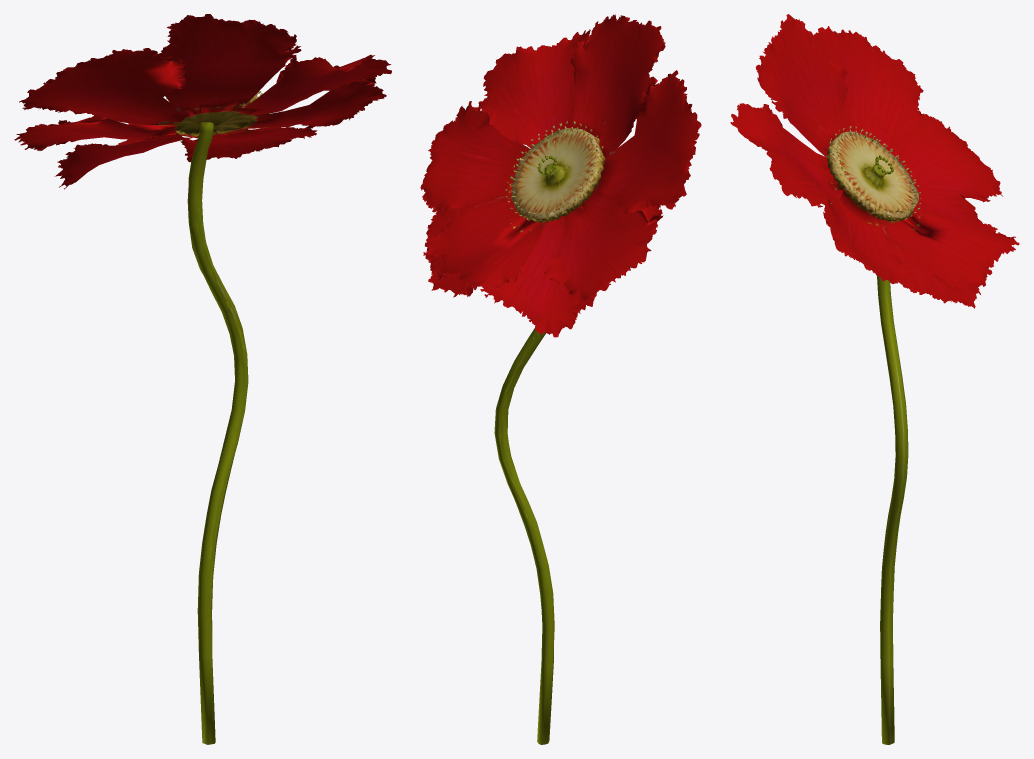
Rendered from flower-04.glb.
3 renders of one model, left to right at view 1: azimuth 30°, elevation 25°; view 2: azimuth 150°, elevation 25°; view 3: azimuth 270°, elevation 25°, orthographic. The views are drawn at different scales.
Parts seen in each view (by area): view 1: tripo_node_bb6579e9-df92-4ad9-afc2-ddf11594592f; view 2: tripo_node_bb6579e9-df92-4ad9-afc2-ddf11594592f; view 3: tripo_node_bb6579e9-df92-4ad9-afc2-ddf11594592f.
Part boxes in pixels (x1,y1,x2,y2): tripo_node_bb6579e9-df92-4ad9-afc2-ddf11594592f: [14, 14, 391, 744]; tripo_node_bb6579e9-df92-4ad9-afc2-ddf11594592f: [420, 14, 701, 744]; tripo_node_bb6579e9-df92-4ad9-afc2-ddf11594592f: [730, 14, 1019, 744].
Bounding box in the file's own units: 0.4339 × 0.998 × 0.3763.
Materials: 1 (1 with a texture image).
